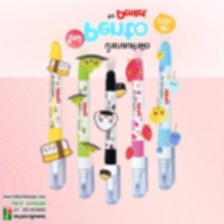correction_fluid: (153, 38, 177, 192), (45, 40, 68, 192), (127, 55, 150, 201), (74, 57, 95, 201), (101, 66, 122, 207)
